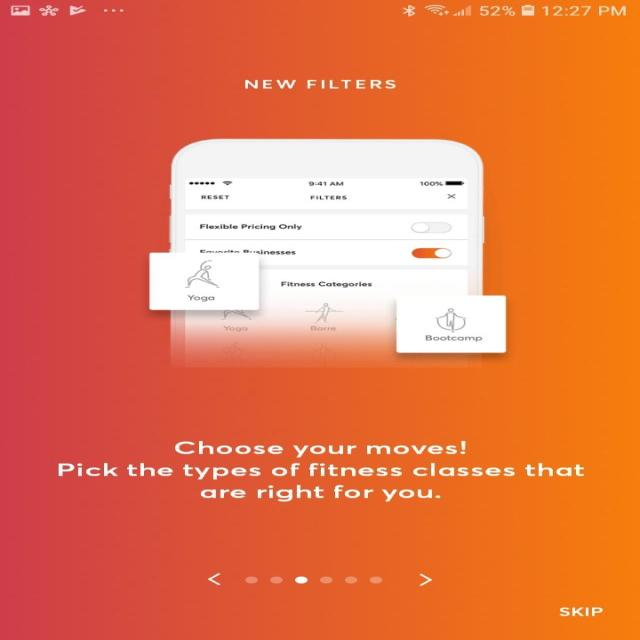Icon: (206, 572, 222, 585), (418, 573, 432, 586)
Image: (148, 139, 506, 368)
Text: (58, 439, 584, 502), (244, 80, 396, 89), (558, 607, 603, 616)
